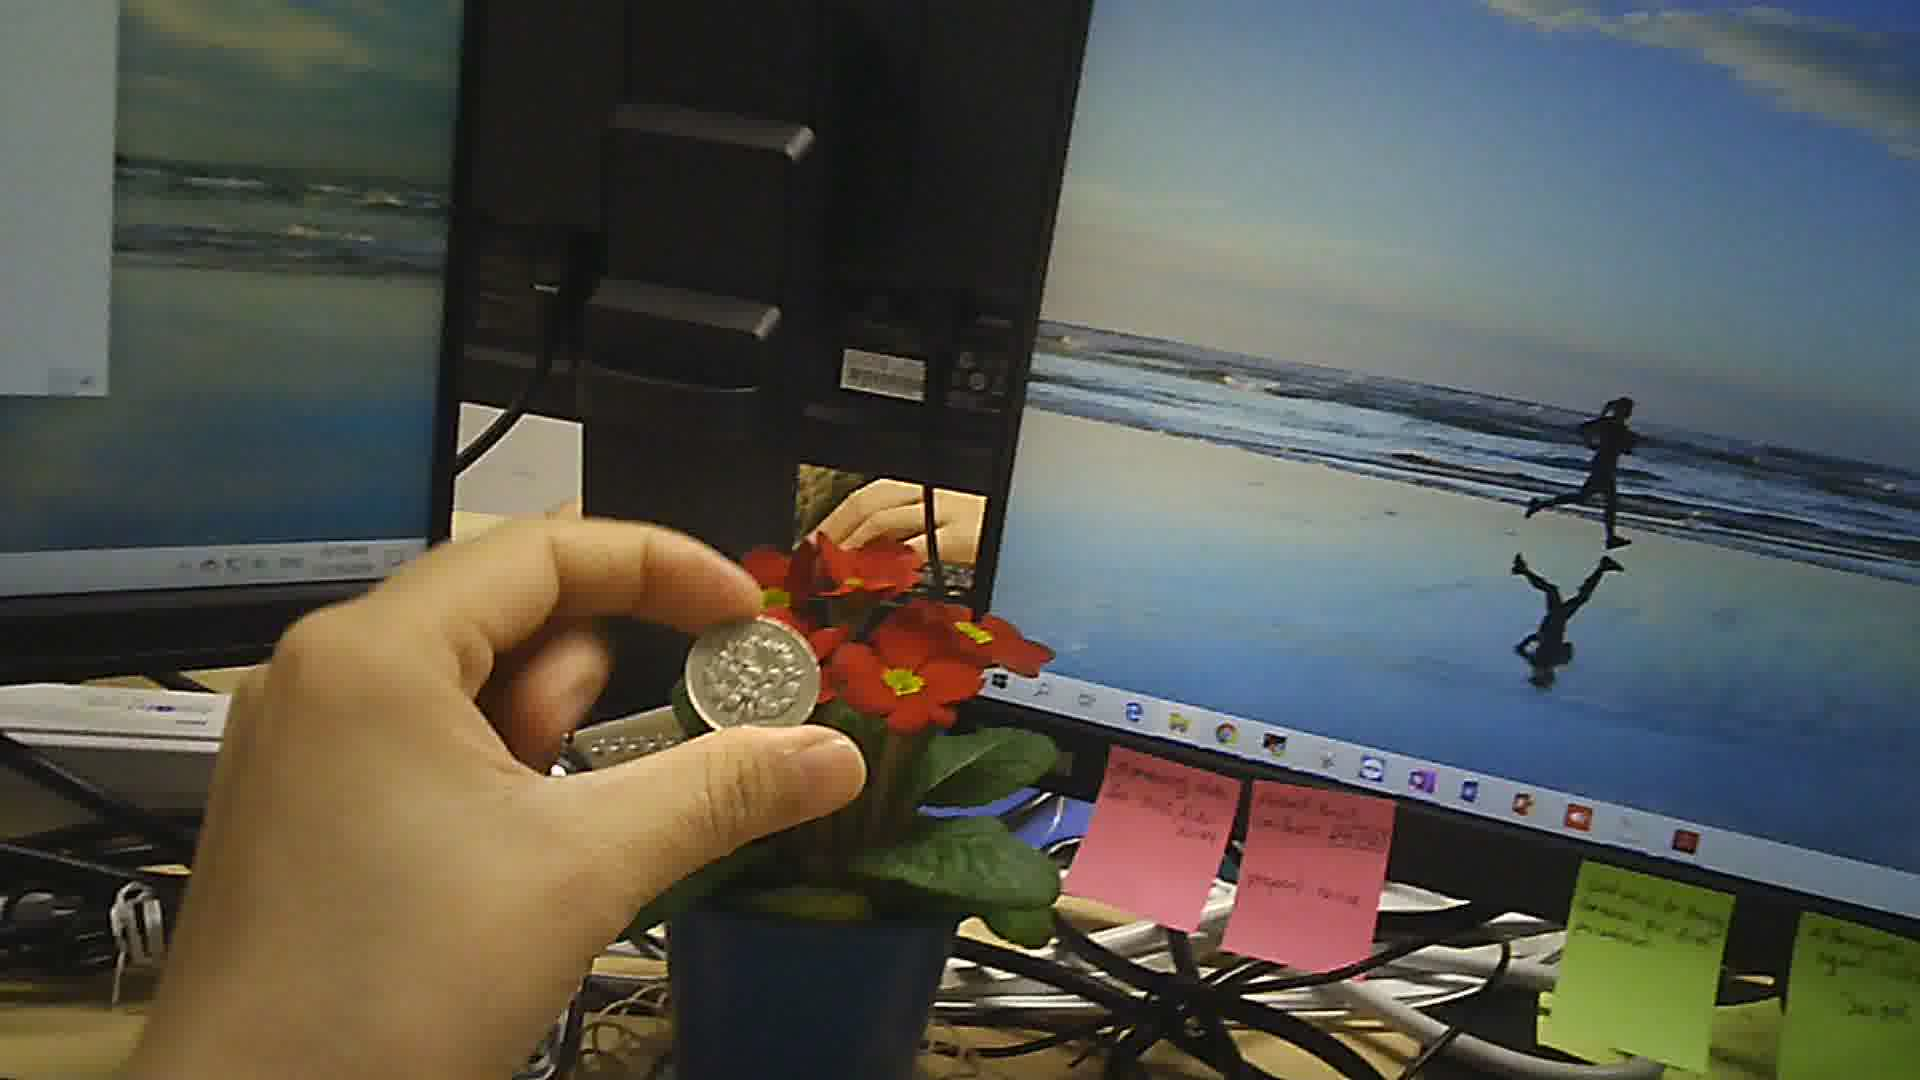100 Yen: (674, 603, 820, 733)
